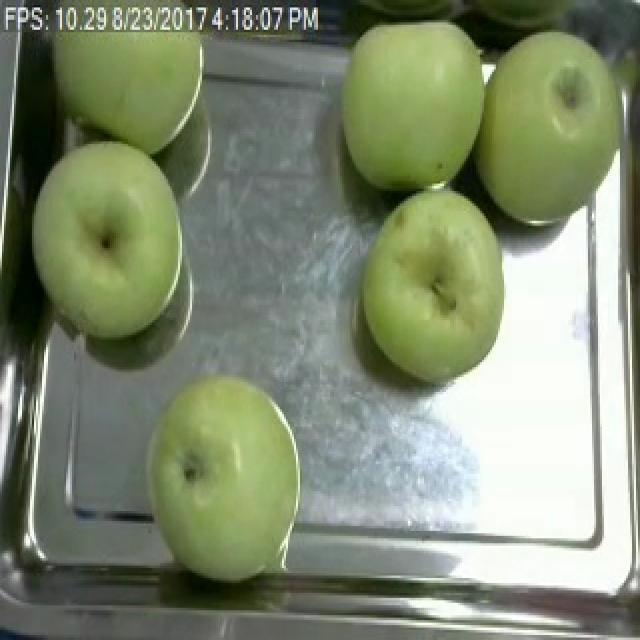50-_ripeness: (0, 130, 203, 328), (135, 377, 312, 568), (360, 195, 510, 382), (481, 24, 612, 238), (341, 17, 473, 197)
